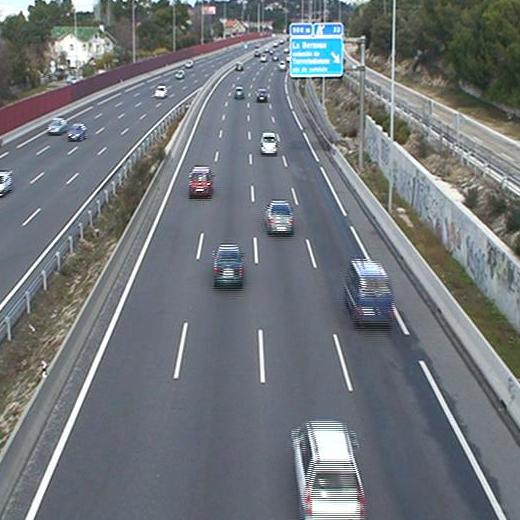car: (294, 425, 367, 520), (213, 247, 242, 285), (266, 203, 294, 234), (190, 167, 213, 197), (259, 134, 276, 156), (255, 90, 268, 102), (234, 86, 243, 97)
van: (348, 260, 393, 324)
